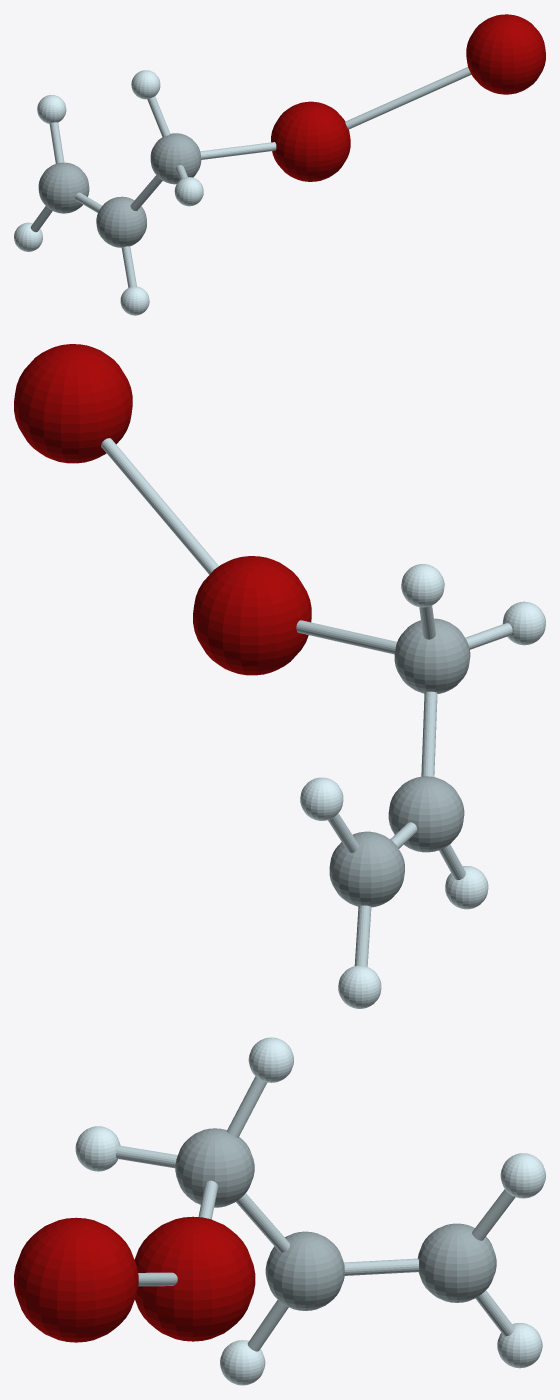
File: irc_step_148.glb
The picture shows the model from 3 angles, top to bottom: view 1: azimuth 30°, elevation 25°; view 2: azimuth 150°, elevation 25°; view 3: azimuth 270°, elevation 25°; orthographic projection. The views are drawn at different scales.
Parts seen in each view (by area): view 1: Renderer Node; view 2: Renderer Node; view 3: Renderer Node.
Part boxes in pixels (x1=…): Renderer Node: x1=14, y1=14, x2=545, y2=315; Renderer Node: x1=14, y1=344, x2=545, y2=1008; Renderer Node: x1=14, y1=1037, x2=545, y2=1385.
Size of the model in its own units: 6.04 by 3.89 by 4.68.
